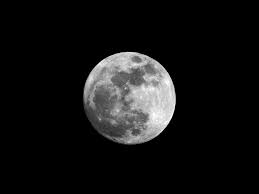moon: (70, 44, 193, 155)
